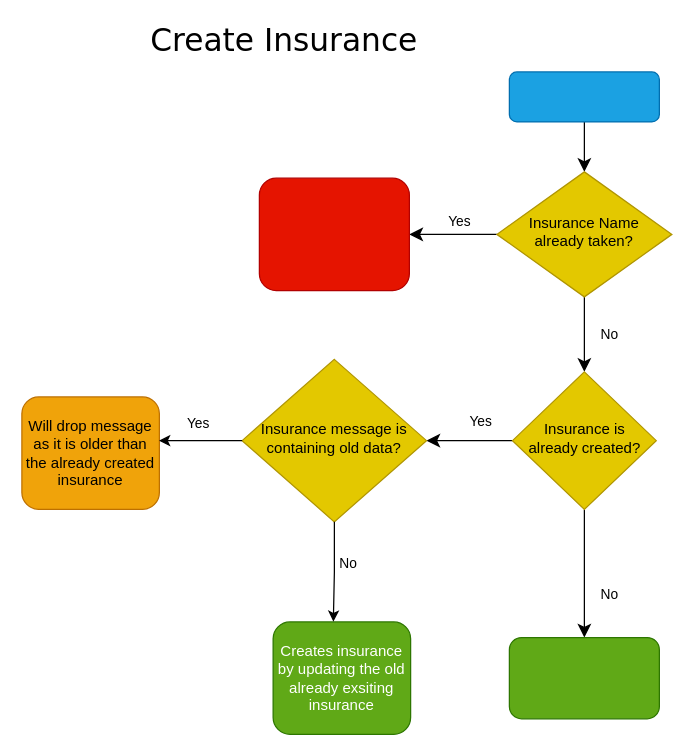
Some shapes in this 694 by 756 pixel diagram are drawn without their labels. The shapes that lost their labels are listed below. From the top down, each one's centre as x and y in pixels, then its label:
At point 583,96: "Received Create Message".
At point 333,234: "Raise Error: Will requeue message until insurance name is available".
At point 583,677: "Creates the insurance in the database".
